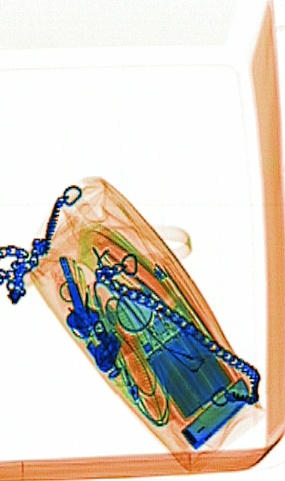powerbank: (129, 303, 236, 423)
